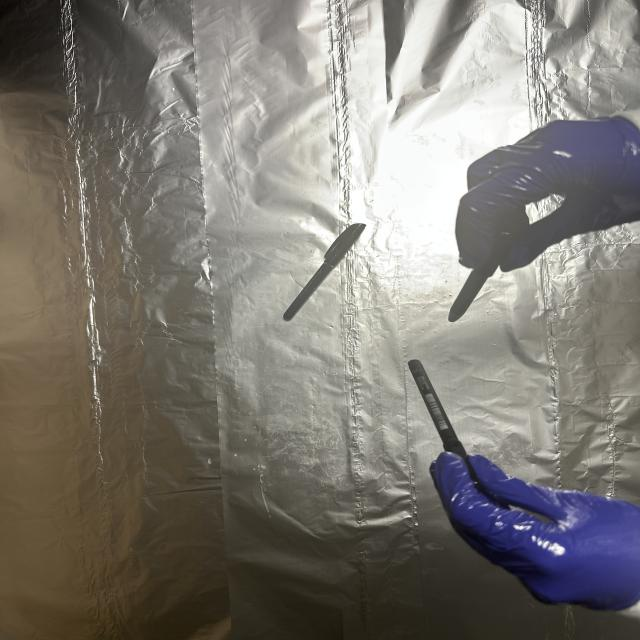gloves_contaminated: (430, 452, 640, 611), (456, 117, 640, 271)
